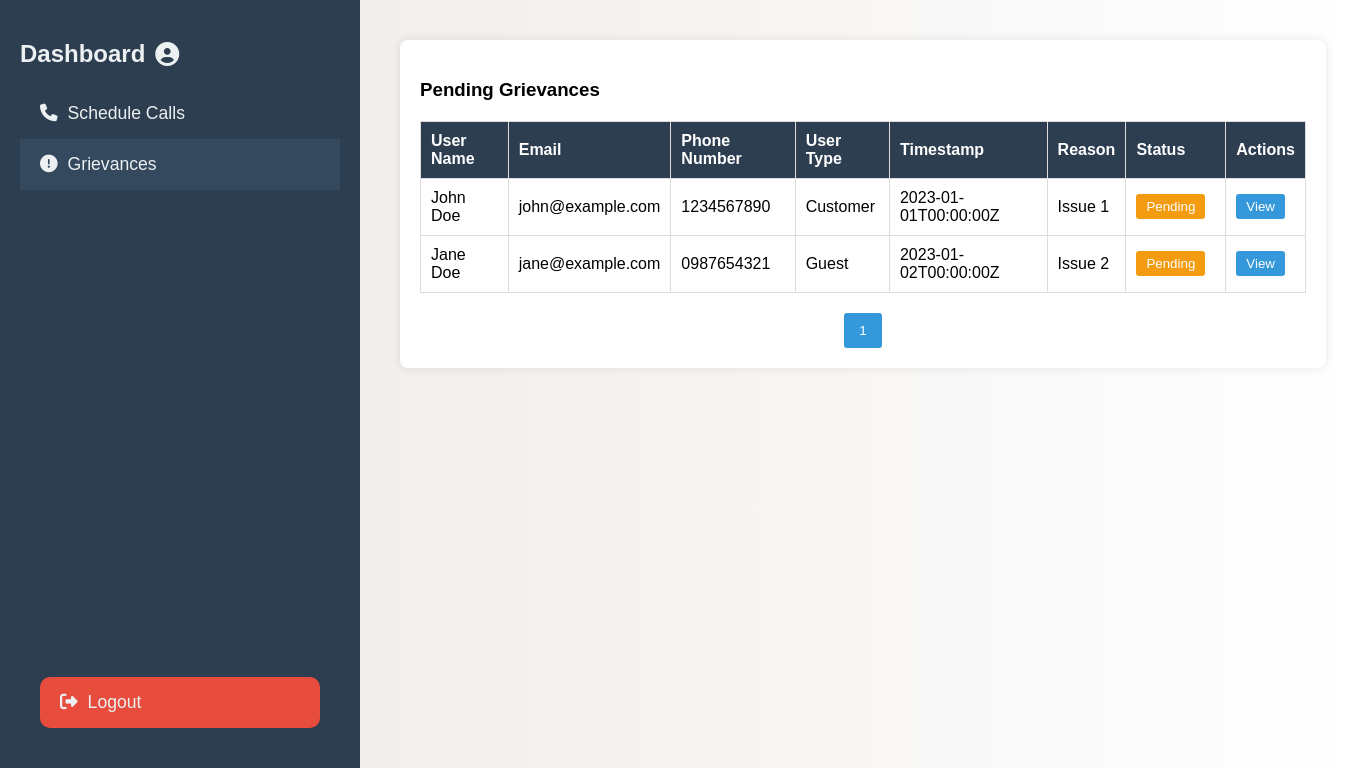
it: Grievances Component › opens and closes the modal
Click the button "View" in the row of "John Doe".
click(1261, 207)  # box [1236,194,1285,219]
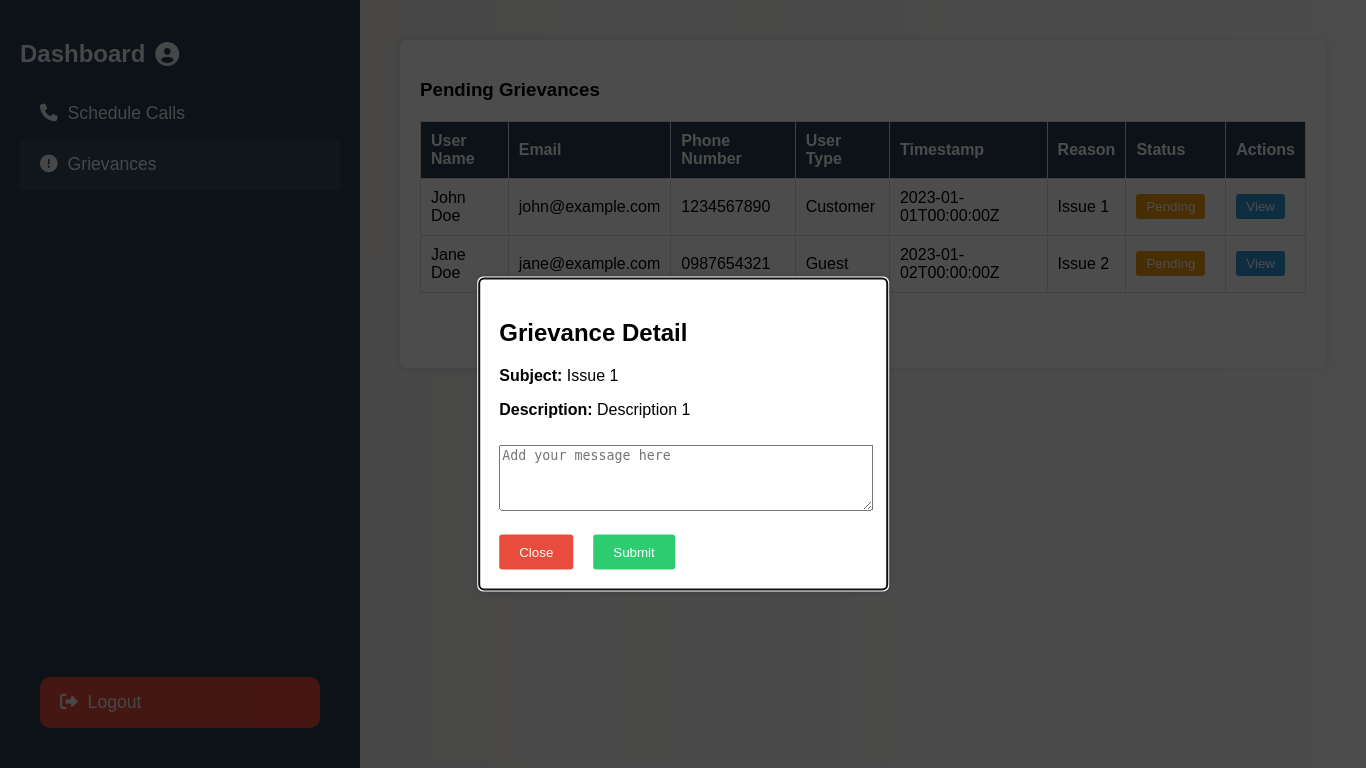
Expected: the heading "Grievance Detail" is shown, [499,318,687,346]
Click the button "Close".
click(536, 552)  # box [499,534,573,569]
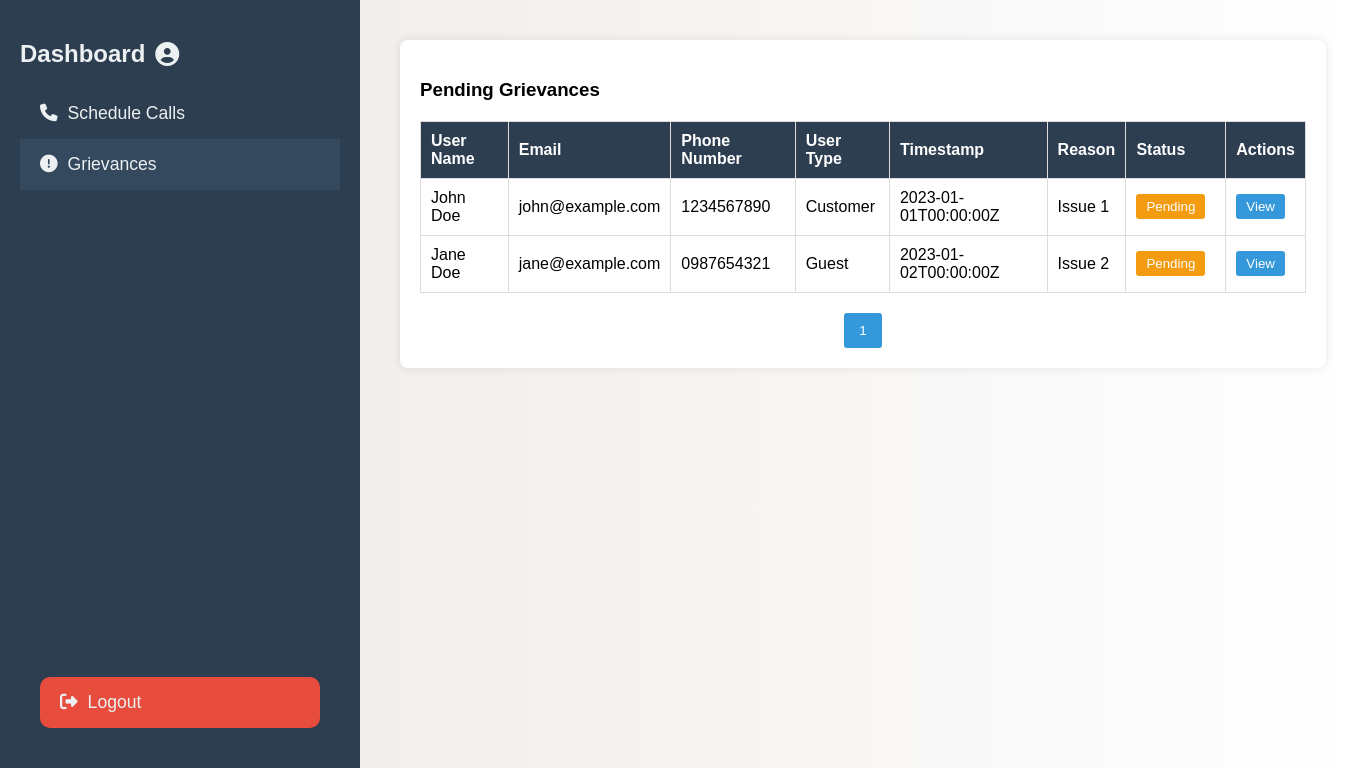
Expected: the heading "Grievance Detail" is gone
